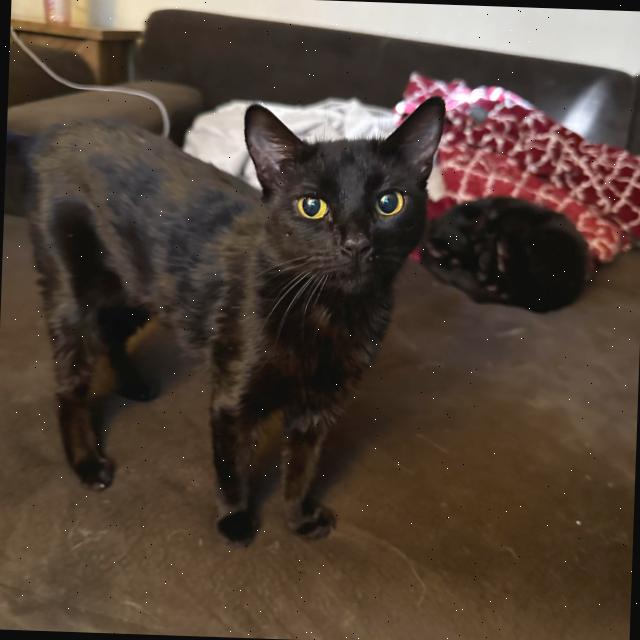bombay_cat: (228, 76, 461, 314)
